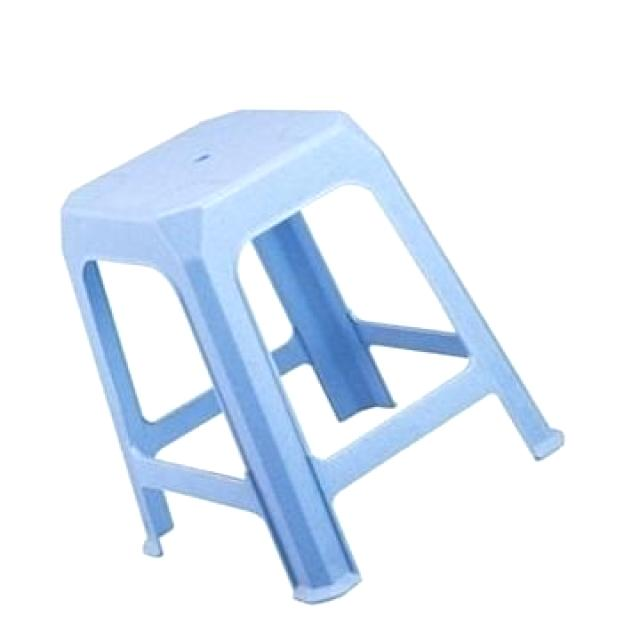Chair: (51, 104, 572, 607)
